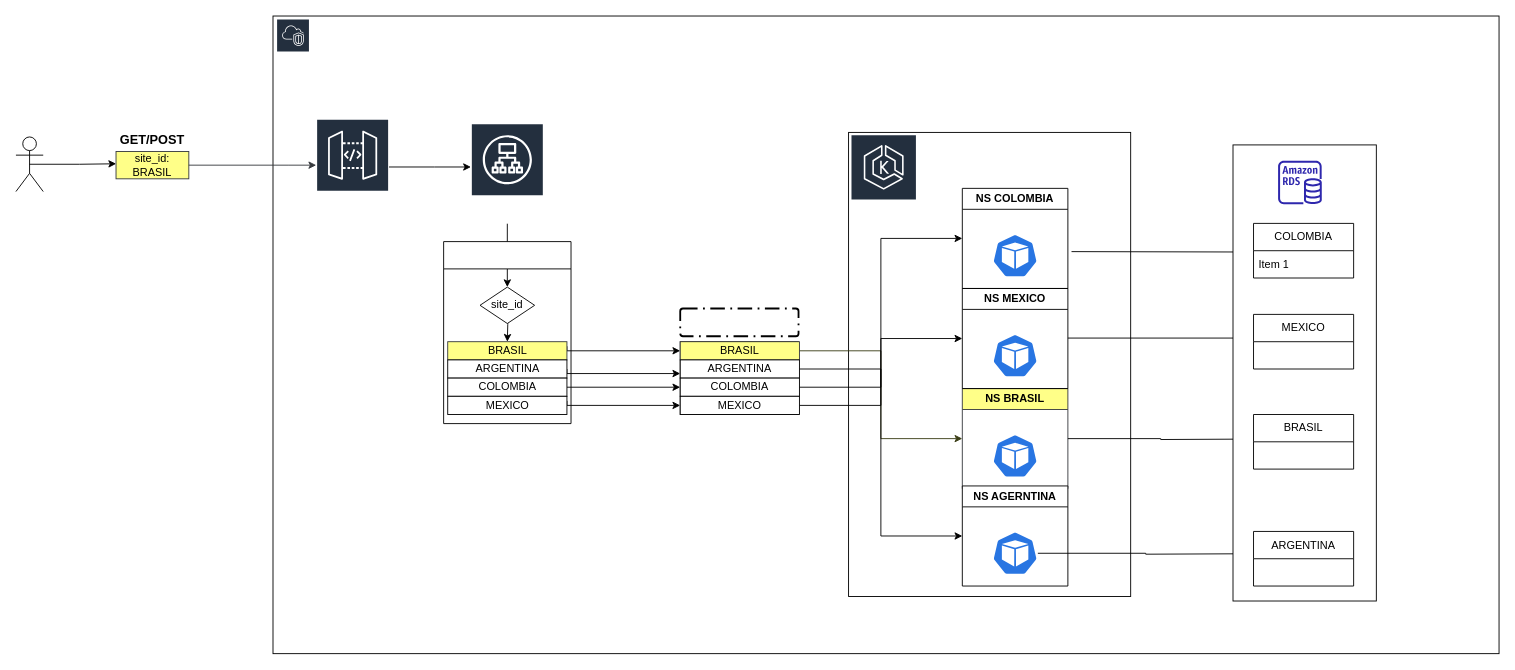
Image size: 1515x670. Some labels were removed from this diagram. The shapes that lost their labels are listed below. From the top down, each one's centre as x and y in pixels, then its label:
the point at 292,49: Amazon VPC
the point at 29,164: Actor
the point at 352,168: Amazon API Gateway
the point at 507,172: Application Load Balancer
the point at 883,173: Amazon EKS
the point at 507,332: LISTENERS
the point at 739,322: TARGETS GROUPS
